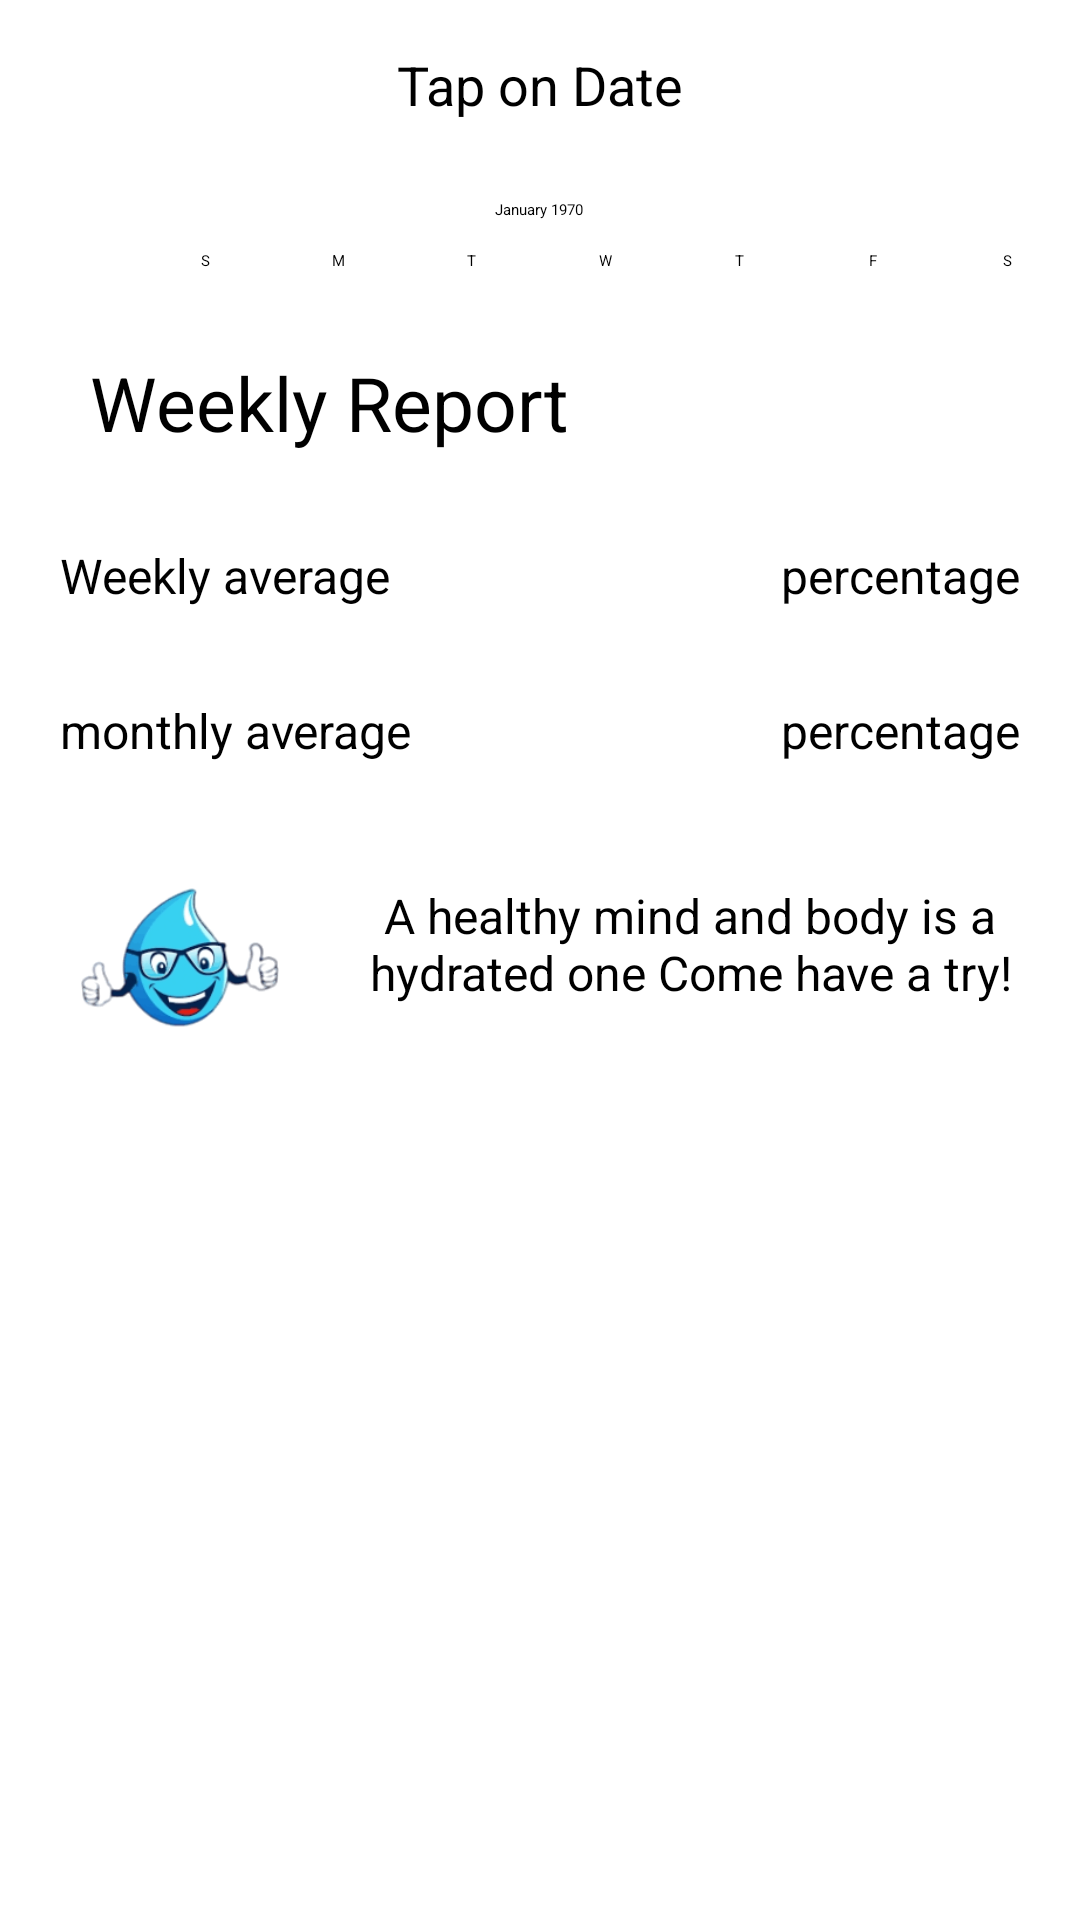

Icon click points for this 1080px x 1920px phone screenshot, format (x=x, y=y):
water drop specs: (x=180, y=957)
